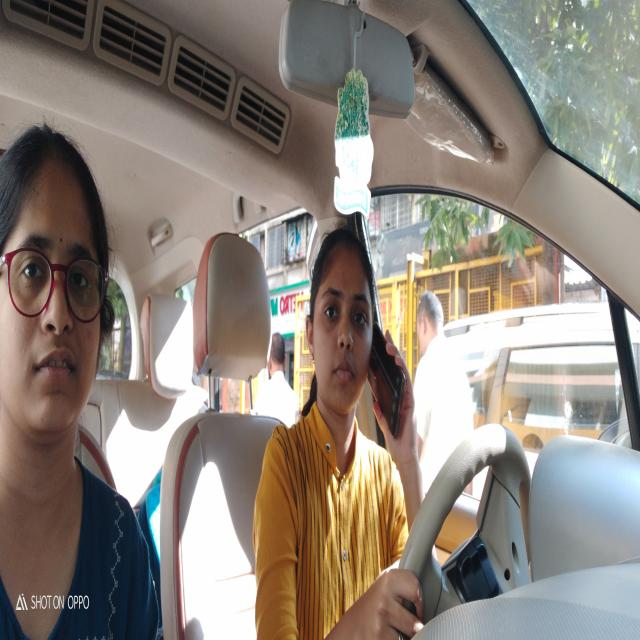mobile: (372, 319, 408, 448)
person: (0, 98, 121, 460), (301, 200, 382, 474)
